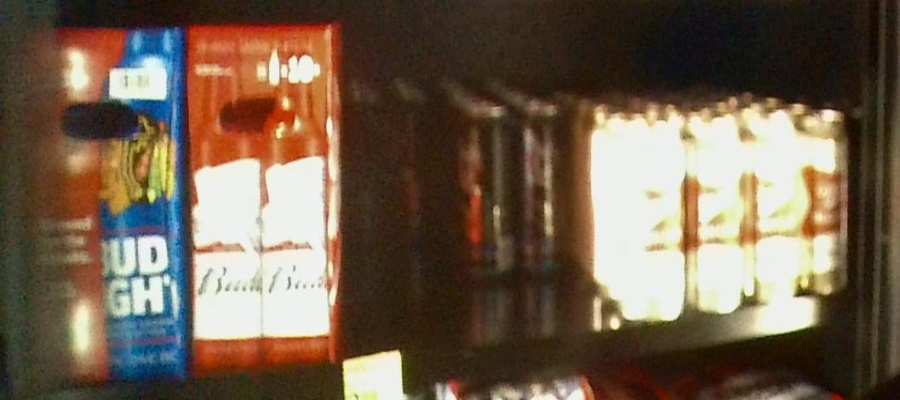bottle: (14, 28, 188, 386), (187, 24, 341, 363), (603, 116, 746, 317), (446, 104, 559, 276), (748, 114, 852, 297), (345, 96, 434, 244)
